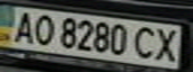0: (109, 21, 133, 56)
2: (75, 17, 93, 52)
8: (54, 15, 78, 49), (90, 19, 112, 54)
A: (6, 8, 39, 44)
C: (130, 24, 160, 61)
O: (27, 11, 57, 46)
X: (151, 25, 184, 63)
